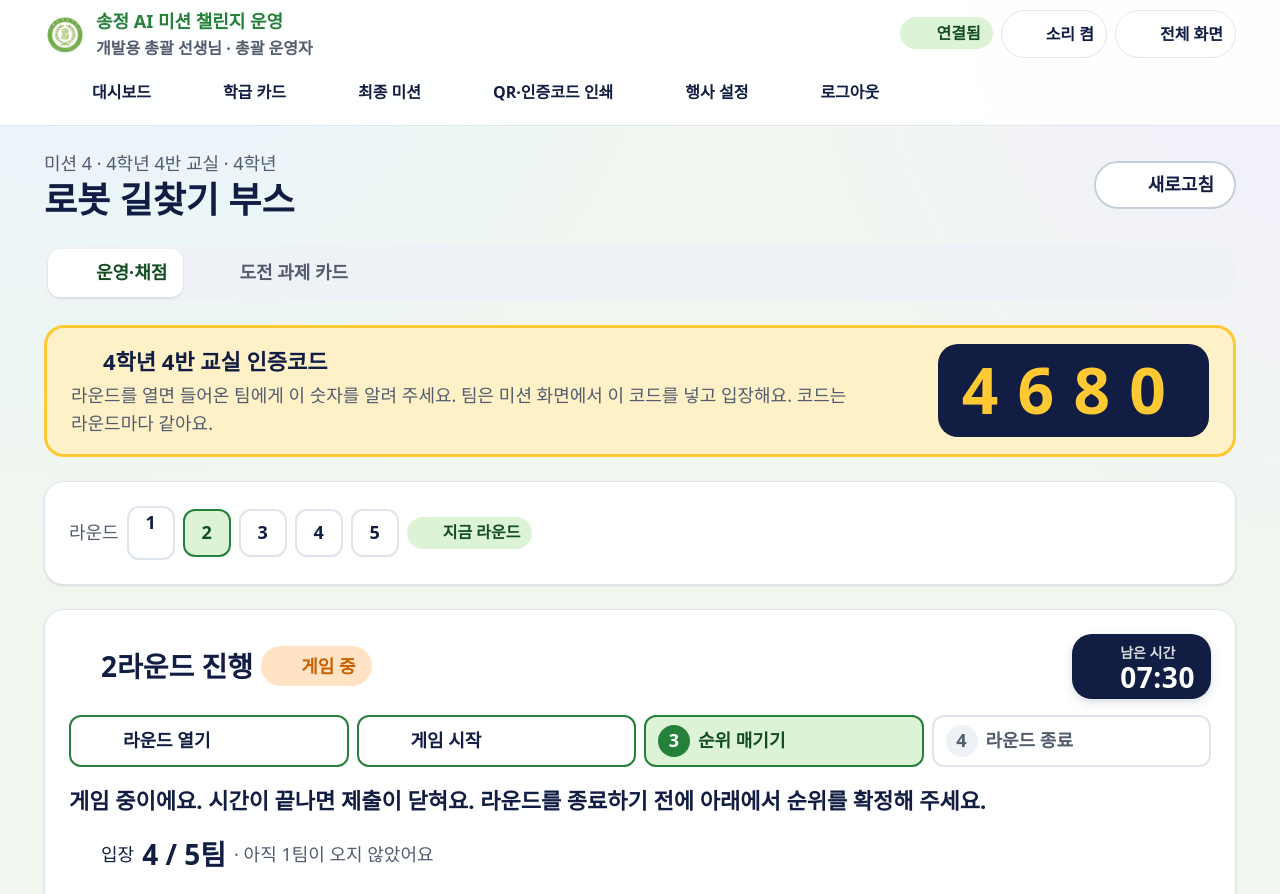
Scenario: 교사 로봇 길찾기 › 도전 과제 카드 탭에서 8장을 모두 볼 수 있다
Click the button "도전 과제 카드": (278, 273) [191, 249, 364, 297]
(page scrolled)
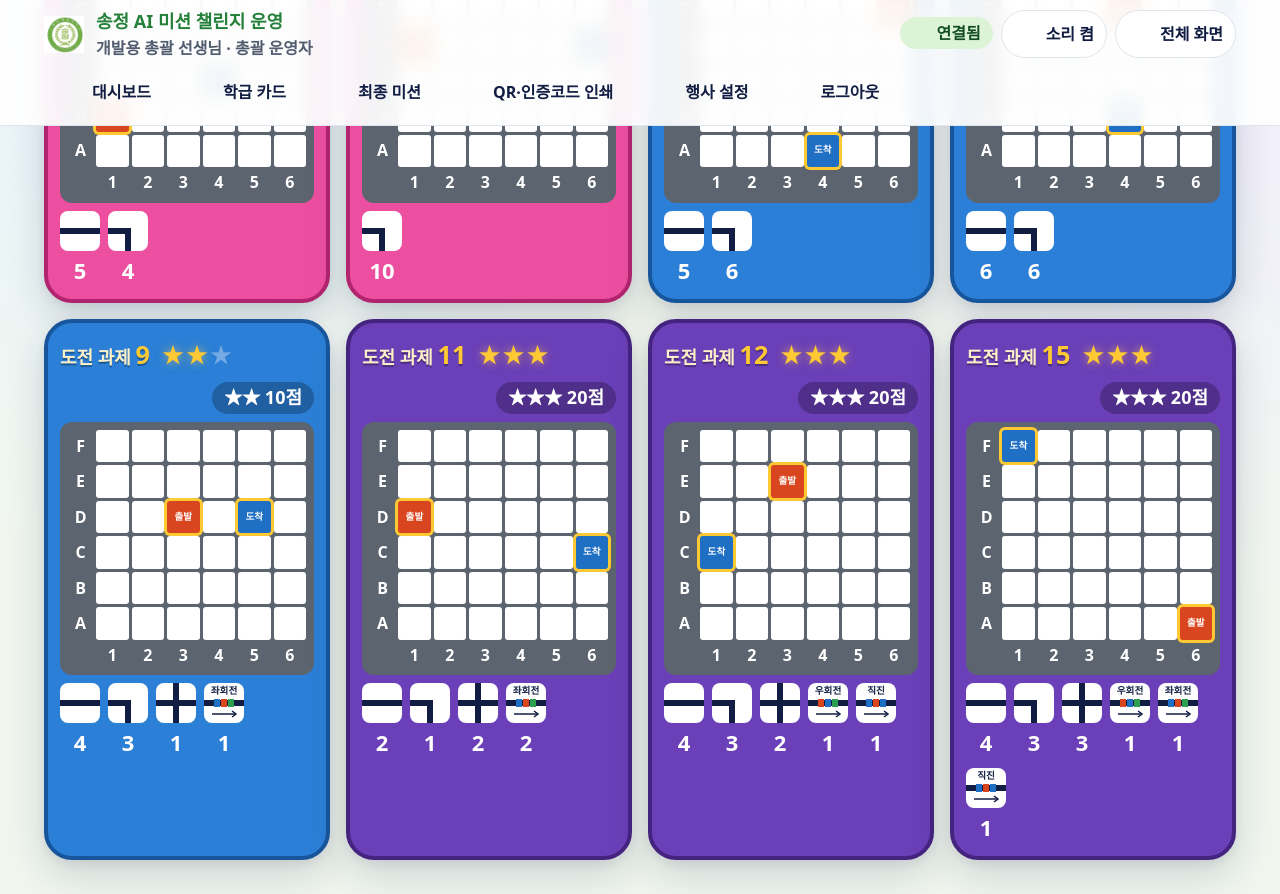
Expected: the number of elements "도전 과제 4 ★ ★ ★ ★ 5점 F E D C 도착 B 출발 A 1 2 3 4 5 6 5 4" is 8
Expected: the element named "도전 과제 12, 별 3개, 출발 E3, 도착 C1" is shown, [648, 319, 934, 860]
